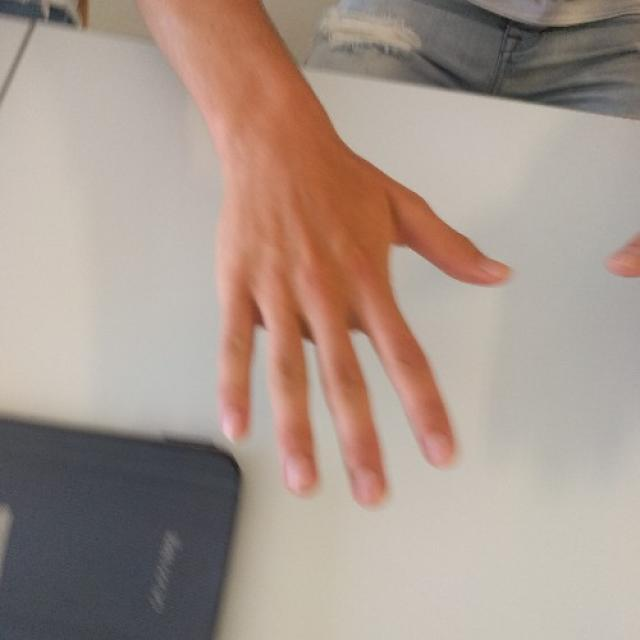paper: (216, 191, 500, 508)
